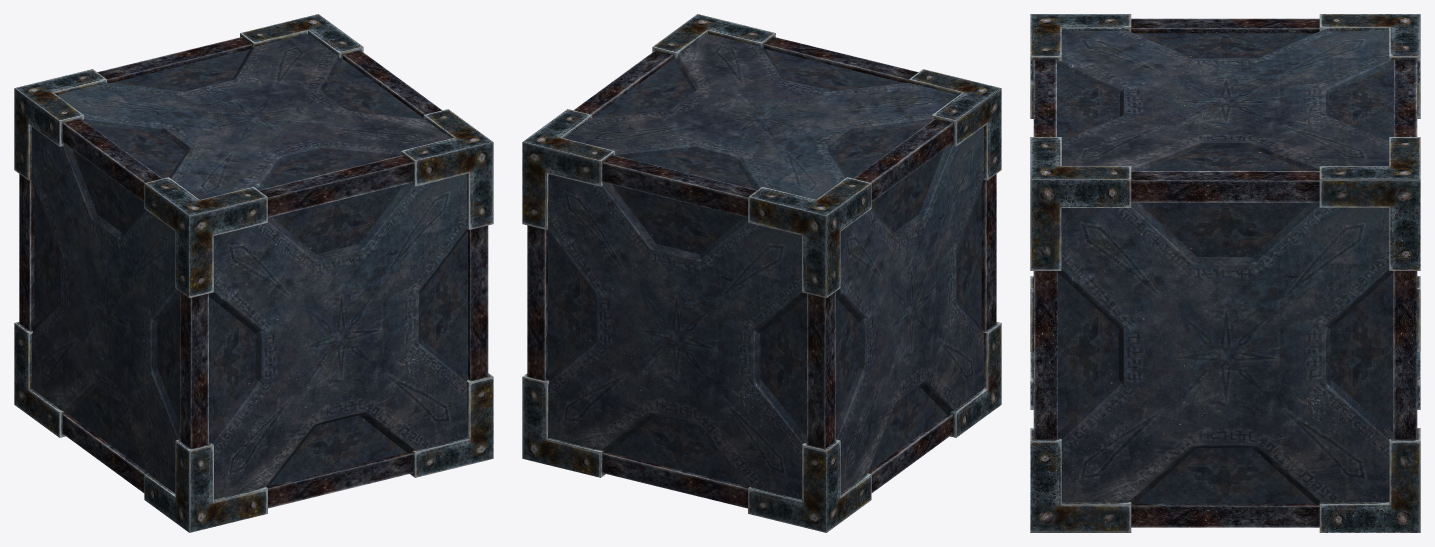
The model's file is root_boxiron_a.002_lev2.glb.
The picture shows the model from 3 angles, left to right: view 1: azimuth 30°, elevation 25°; view 2: azimuth 150°, elevation 25°; view 3: azimuth 270°, elevation 25°; orthographic projection. The views are drawn at different scales.
Visible parts, largest first — view 1: root_boxiron_a.002_lev2; view 2: root_boxiron_a.002_lev2; view 3: root_boxiron_a.002_lev2.
Boxes of the visible parts, x1,y1,x2,y2 form: root_boxiron_a.002_lev2: (14,14,493,532); root_boxiron_a.002_lev2: (522,14,1001,532); root_boxiron_a.002_lev2: (1030,14,1420,532).
Bounding box in the file's own units: 9.44 × 9.4 × 9.41.
1 material, 1 textured.
